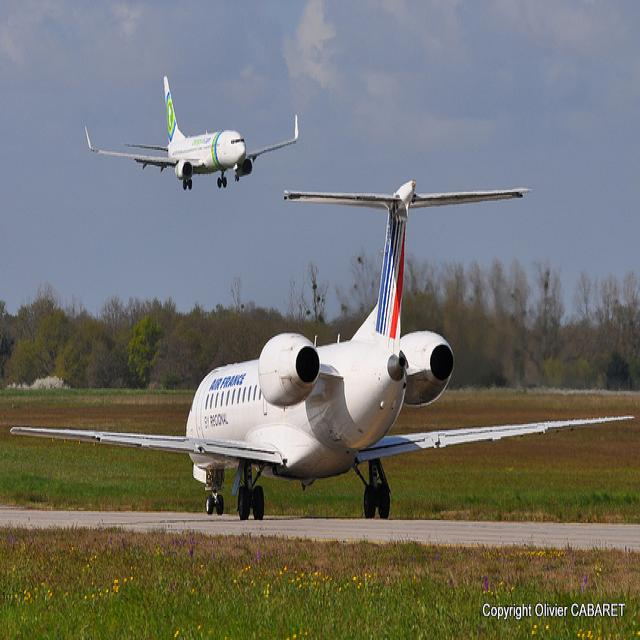airplane: (8, 177, 637, 522), (83, 74, 301, 191)
